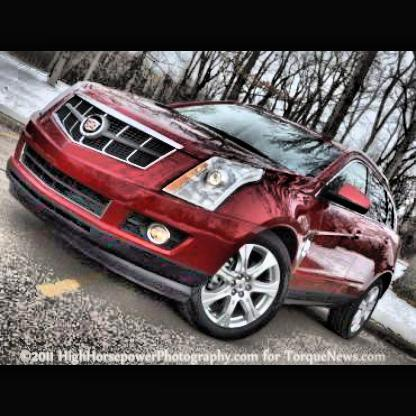Cadillac SRX SUV 2012: (3, 75, 401, 348)
